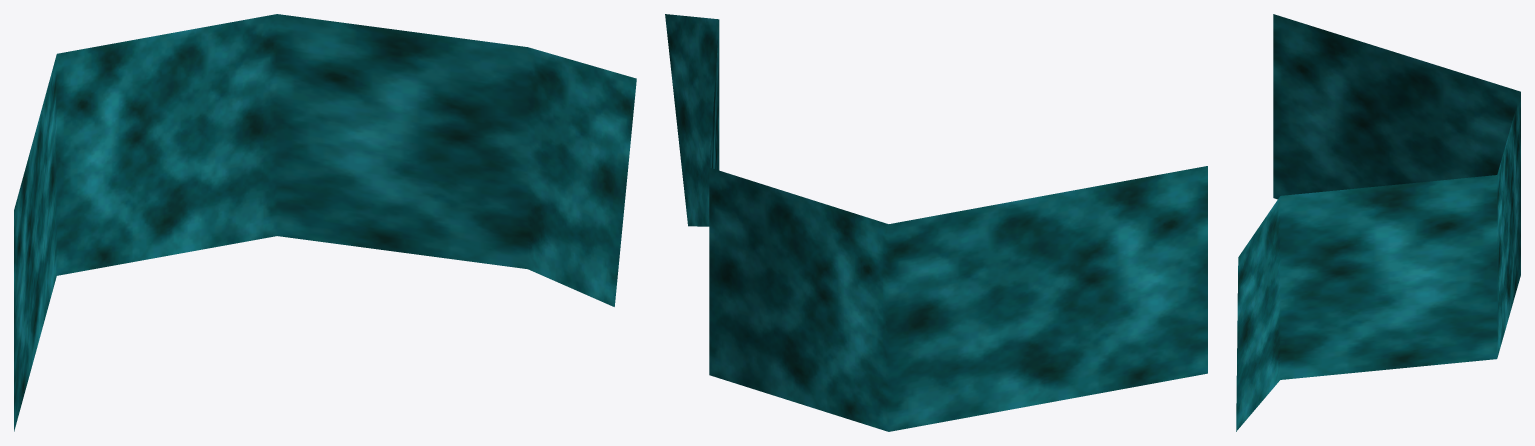
Rendered from MIRKWOOD_FOG.fbx.
3 views of the same model, side by side, from view 1: azimuth 30°, elevation 25°; view 2: azimuth 150°, elevation 25°; view 3: azimuth 270°, elevation 25° (orthographic). The views are drawn at different scales.
Visible parts, largest first — view 1: MIRKWOOD_FOG; view 2: MIRKWOOD_FOG; view 3: MIRKWOOD_FOG.
Boxes of the visible parts, x1,y1,x2,y2 form: MIRKWOOD_FOG: (14, 14, 636, 431); MIRKWOOD_FOG: (665, 14, 1207, 431); MIRKWOOD_FOG: (1236, 14, 1520, 431).
Bounding box in the file's own units: 235005 × 95338 × 116188.
1 material, 1 textured.
